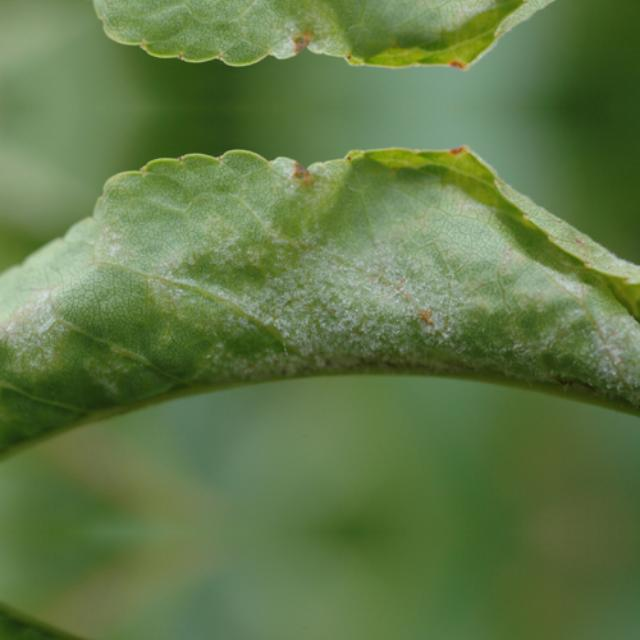Downy_mildew: (4, 145, 640, 431), (4, 0, 640, 69), (4, 633, 640, 640)
